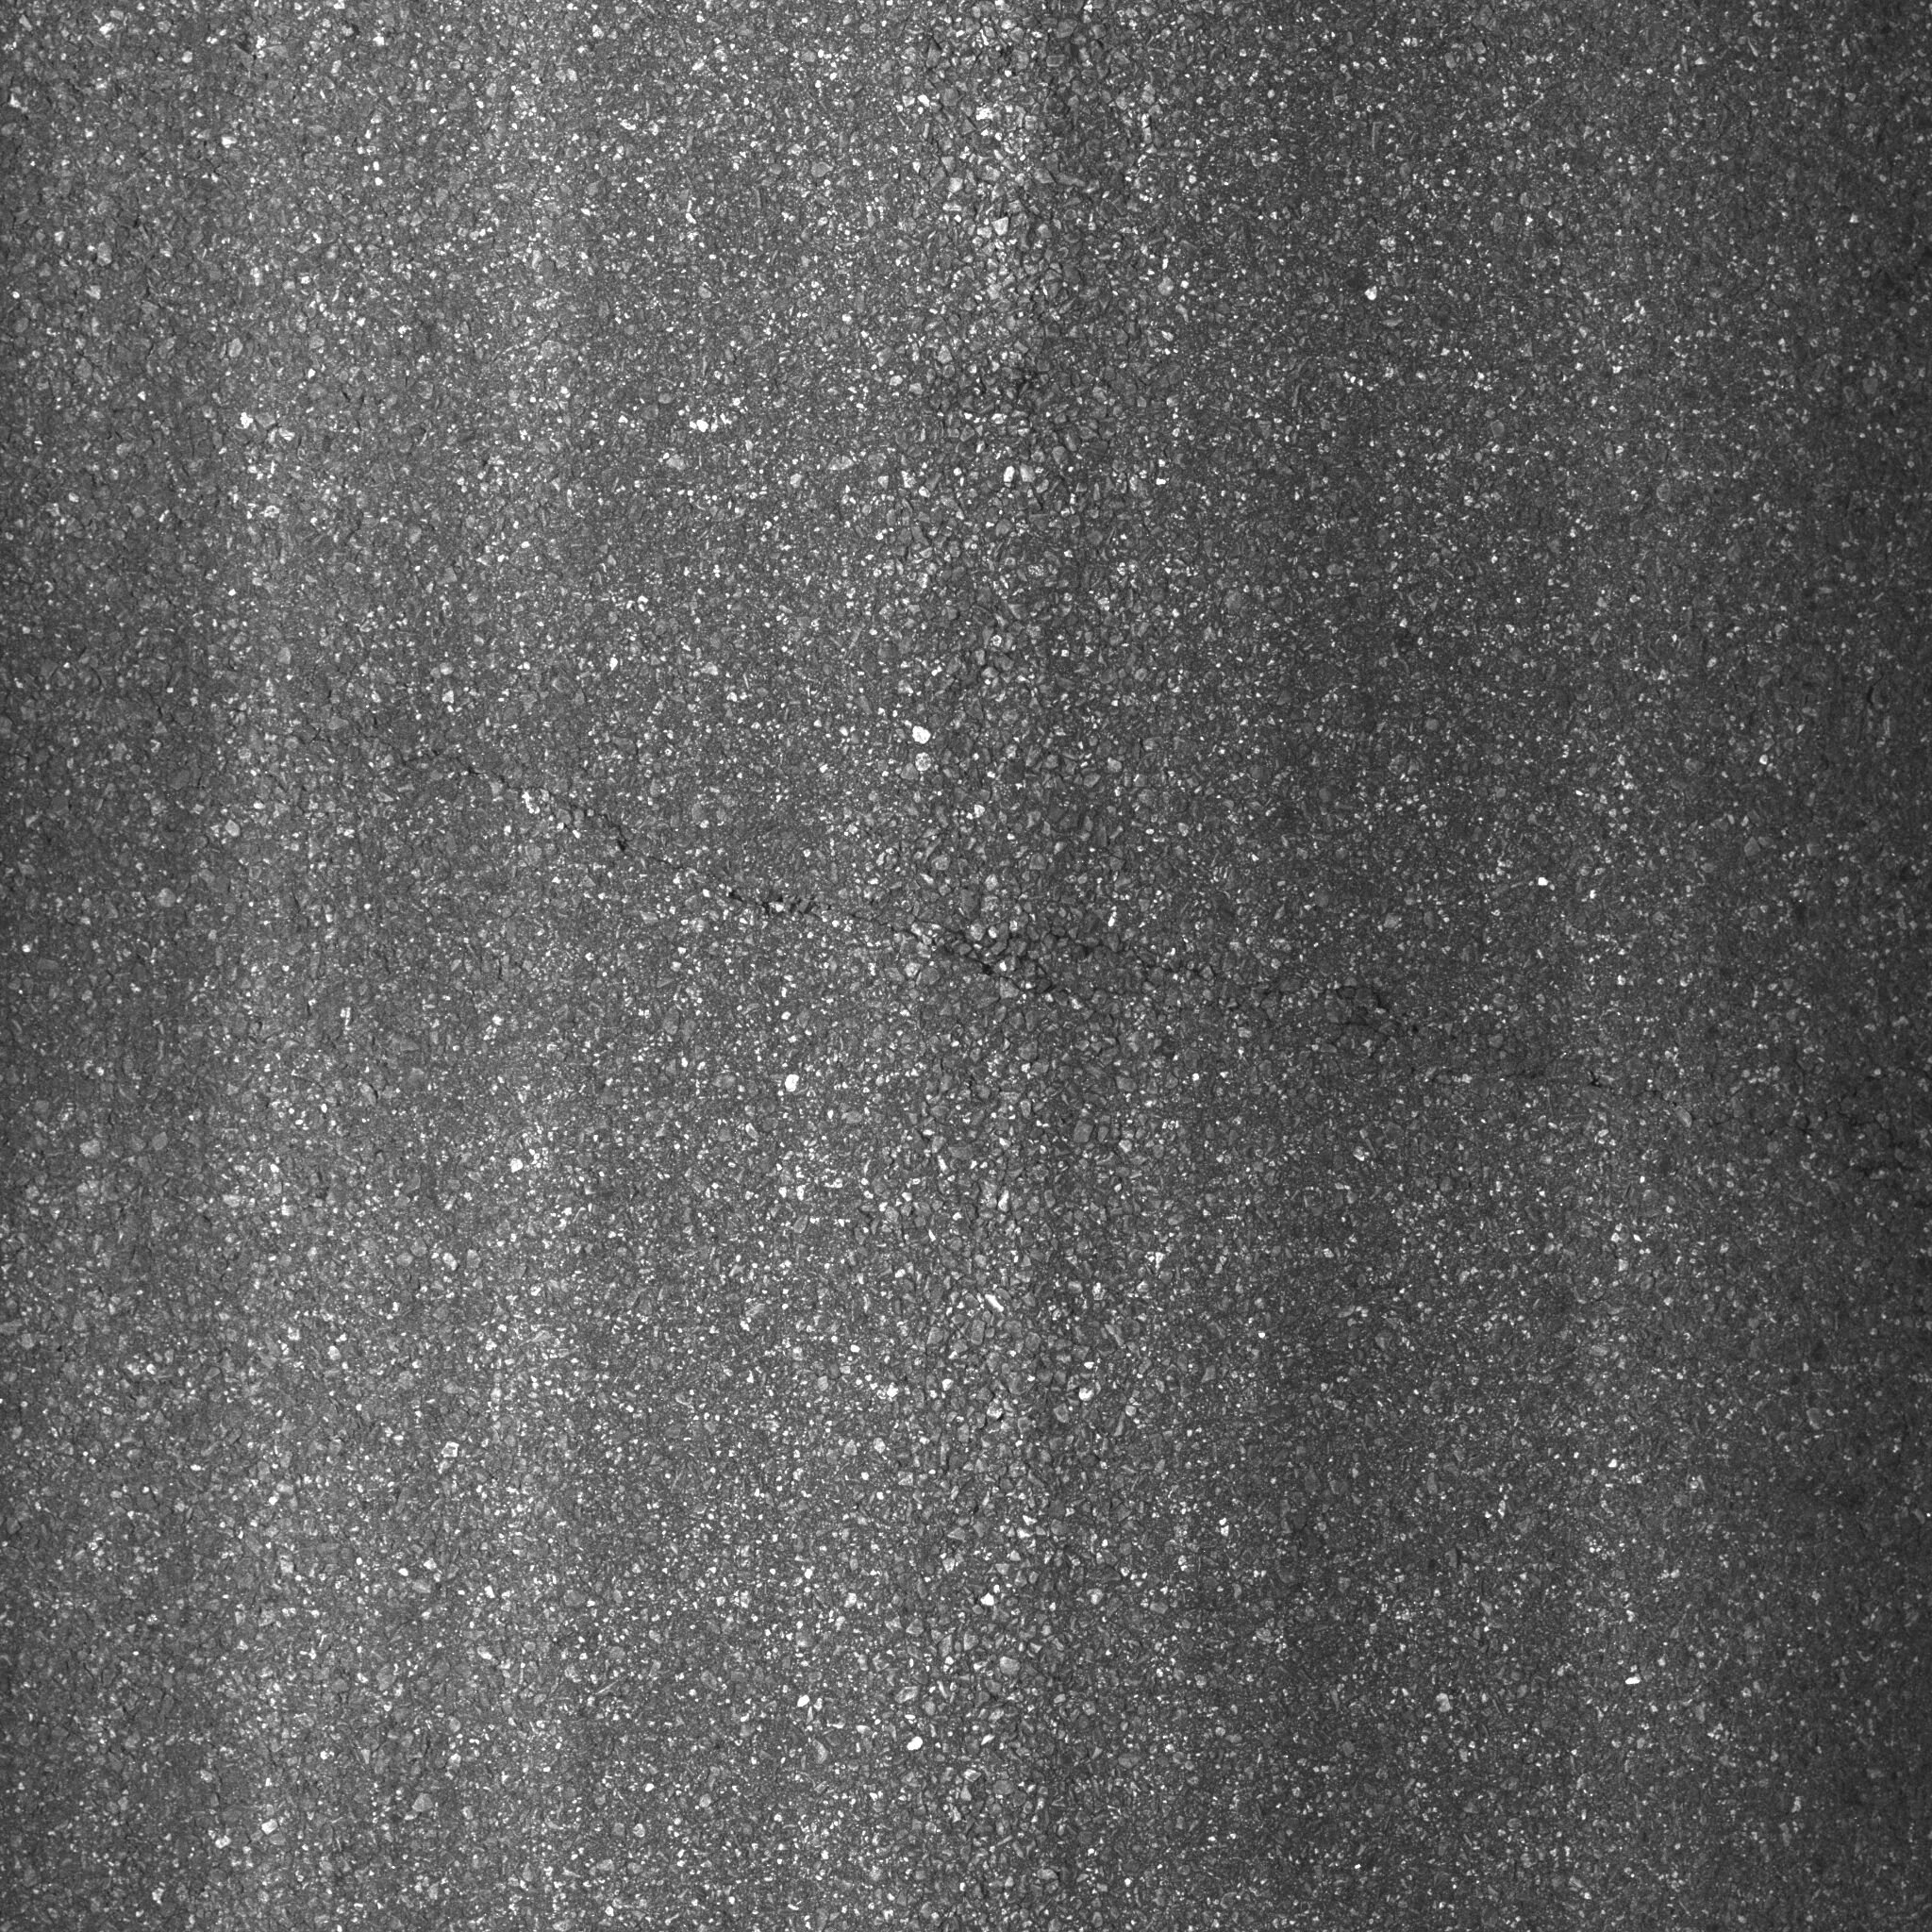transeverse: (363, 734, 1502, 1083)
